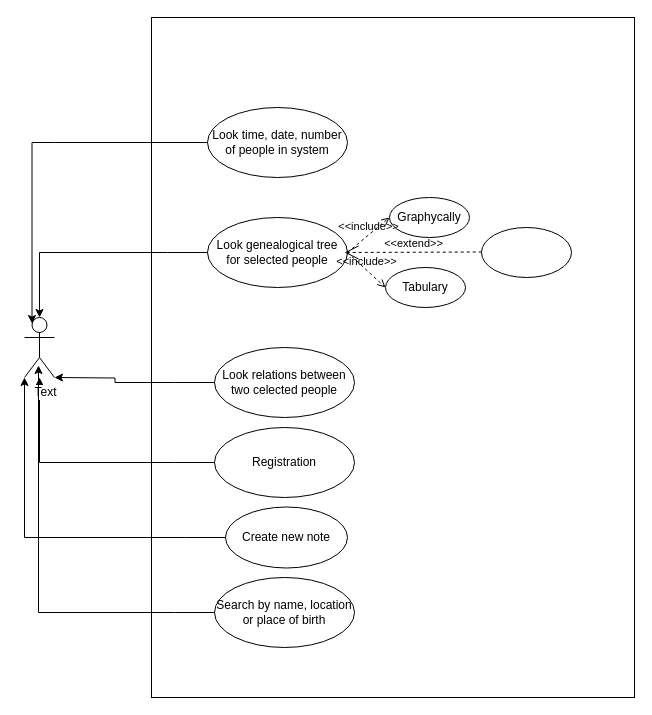
The diagram is 652 pixels wide and 715 high, and some of its shapes have lost their labels. Each missing label, with the centre of its shape:
Stage out the requested: pixel 526 252
User: pixel 39 347
